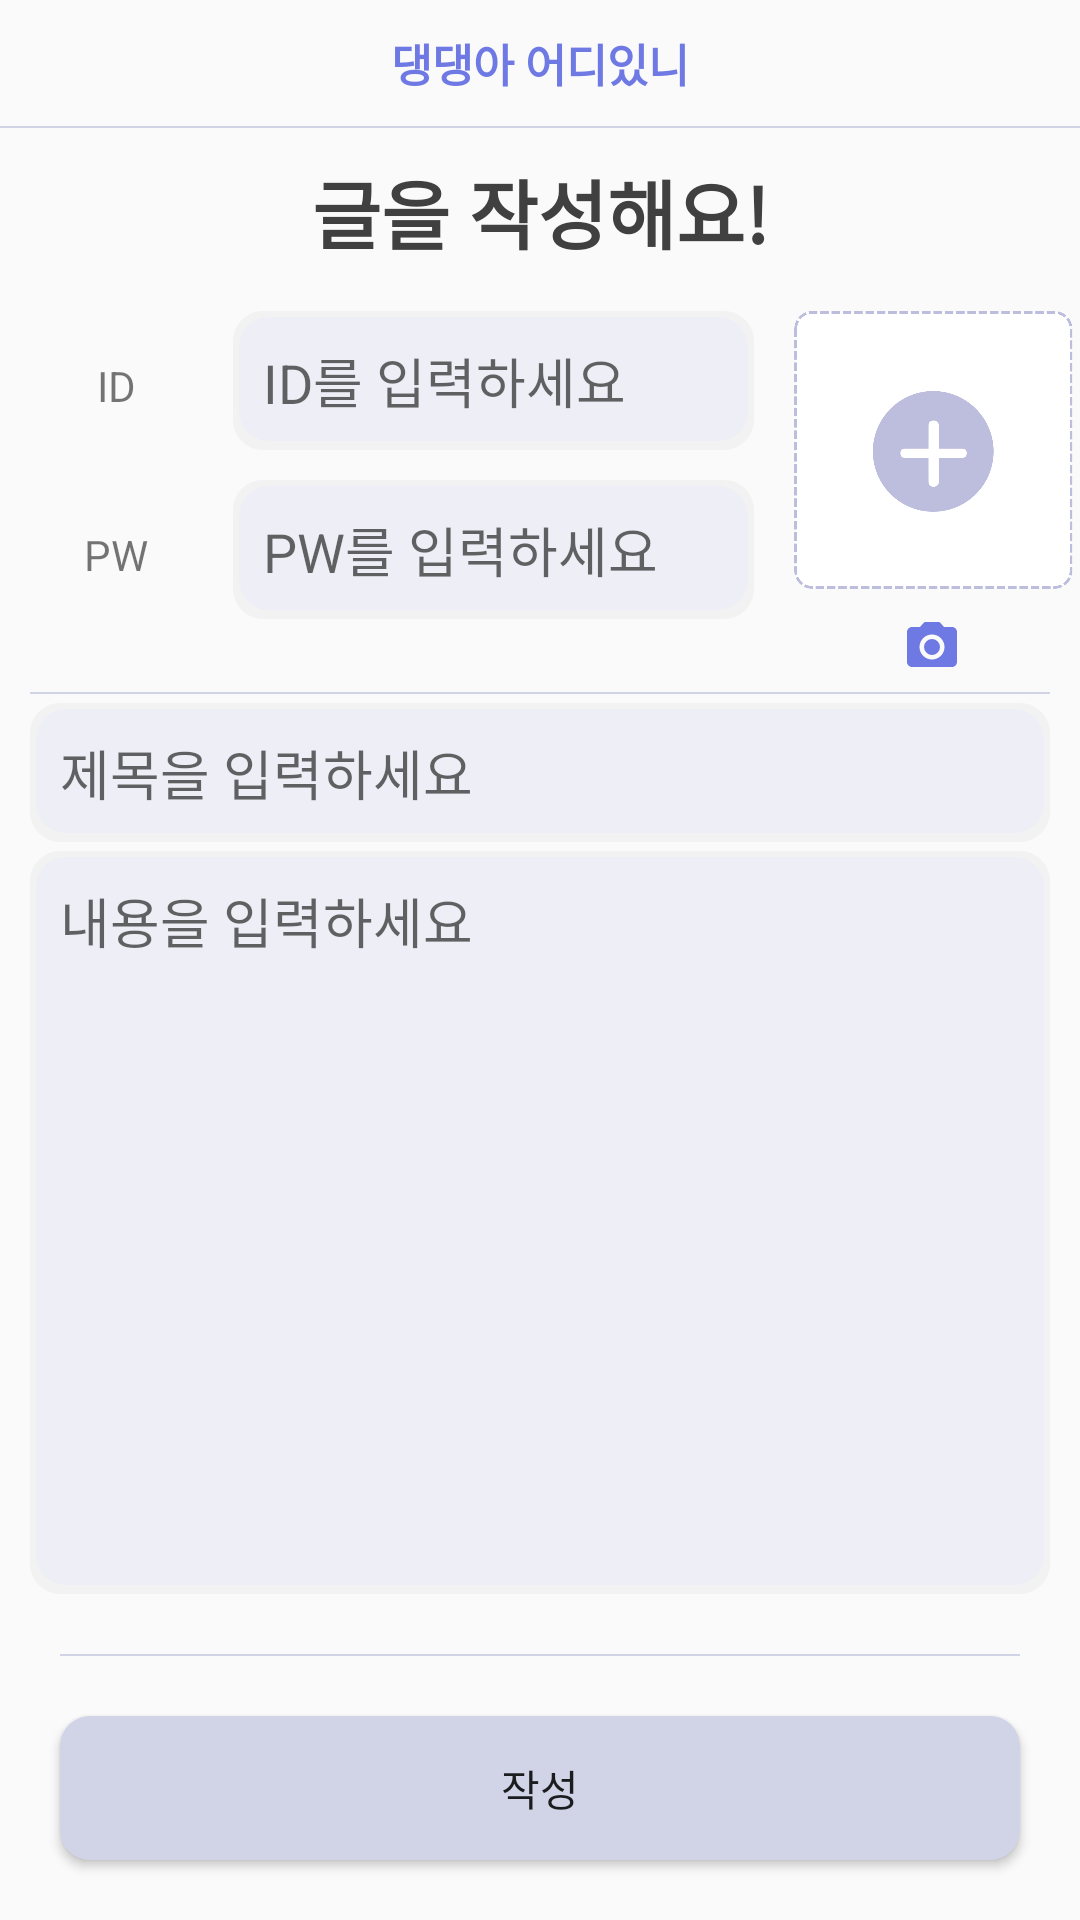

Icon bounding boxes for this 1080w x 1920h phone screenshot, format box(x1, y1, x2, y2):
photo camera: box(907, 622, 957, 667)
